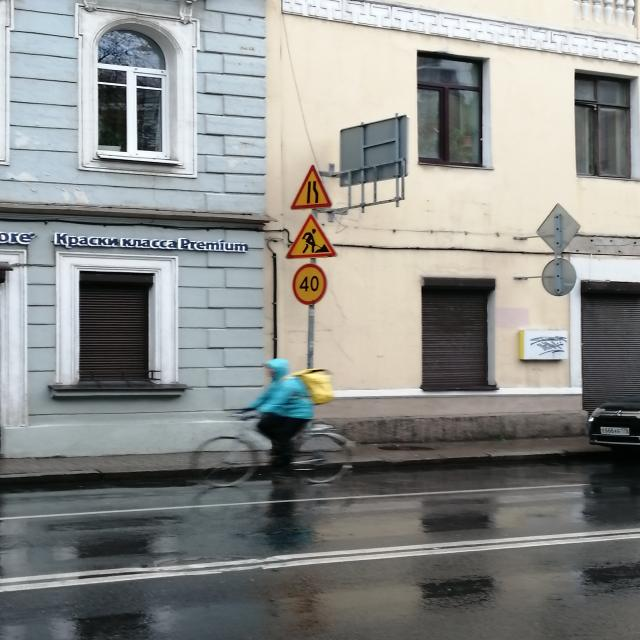road sign: (286, 215, 337, 258), (288, 162, 332, 208), (308, 303, 319, 369)
